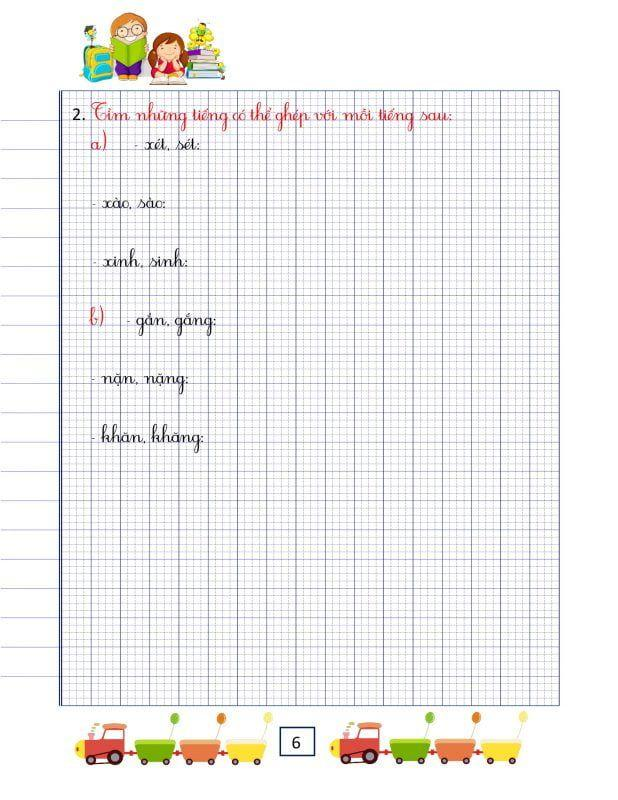text: (70, 99, 454, 134), (100, 422, 207, 455), (100, 370, 191, 397), (130, 311, 218, 338), (91, 247, 191, 270), (89, 193, 168, 211), (135, 134, 202, 155), (87, 128, 109, 154), (87, 303, 107, 329), (290, 735, 303, 752)
